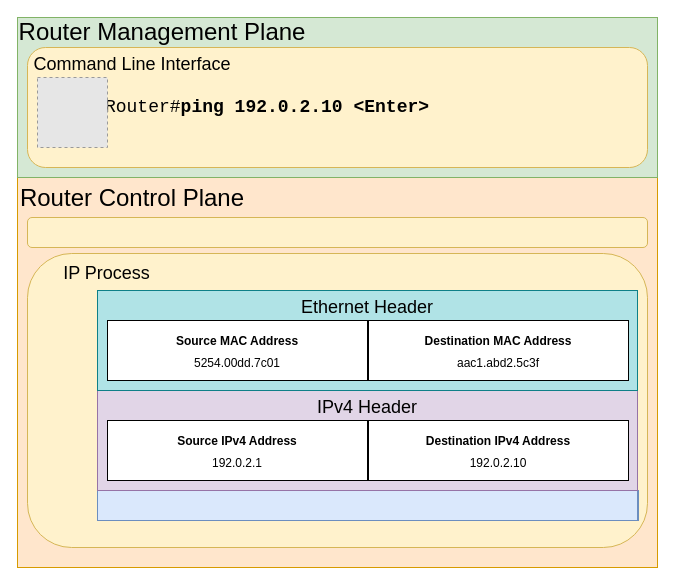
Some shapes in this 675 by 585 pixel diagram are drawn without their labels. Grey dashed boxes stand in for pictures. The shapes that lost their labels are listed below. From the top down, each one's centre as x and y in pixels, then its label:
At point 337,232: "ICMP Process".
At point 367,505: "ICMP Datagram".
